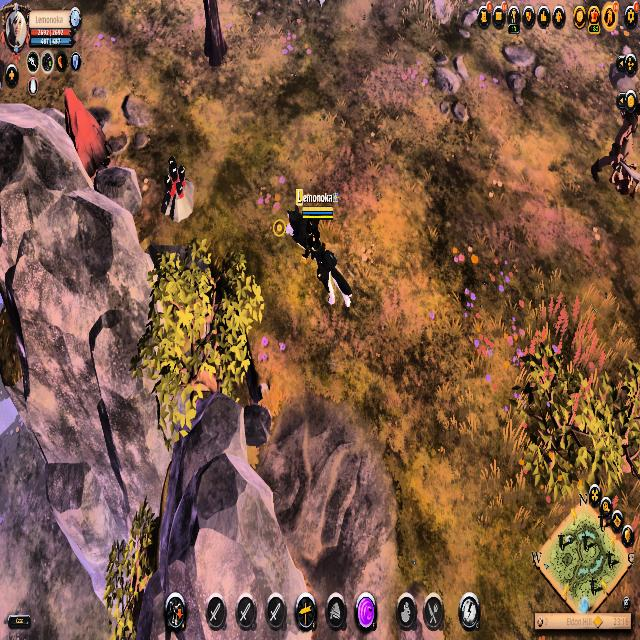ore tier 5: (159, 155, 196, 222)
rock tier 5: (62, 84, 112, 182)
